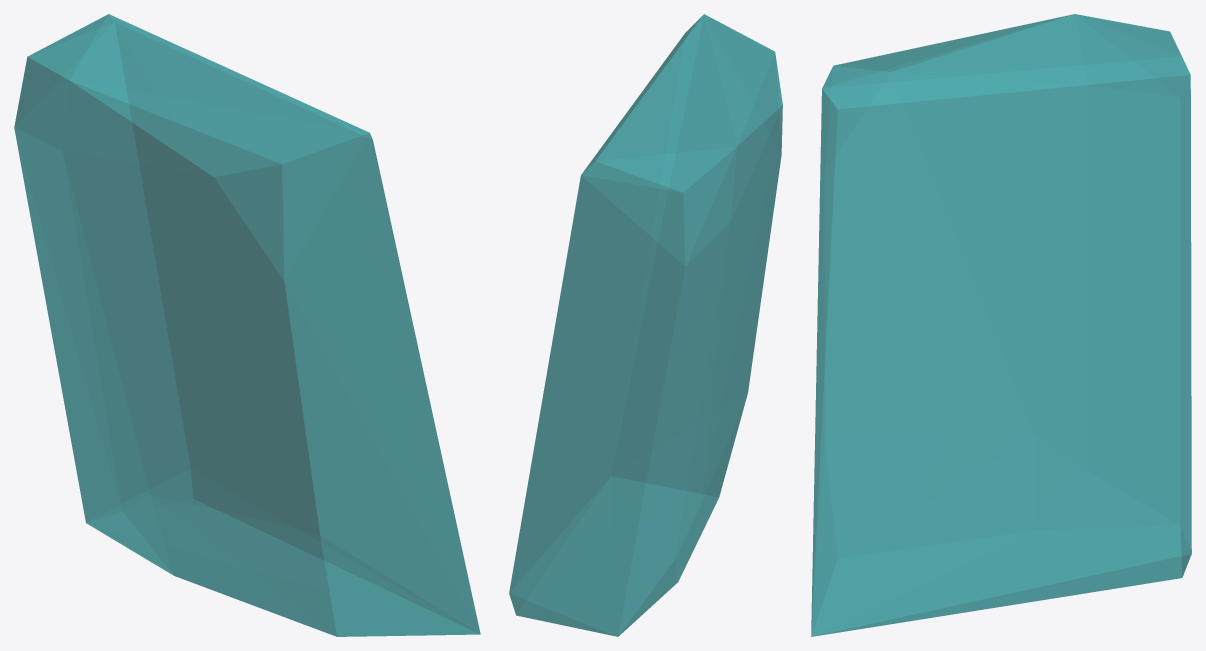
3 views of the same model, side by side, from view 1: azimuth 30°, elevation 25°; view 2: azimuth 150°, elevation 25°; view 3: azimuth 270°, elevation 25° (orthographic). The views are drawn at different scales.
Parts seen in each view (by area): view 1: Shape_IndexedFaceSet.026_Shape_IndexedFaceSet.7512; view 2: Shape_IndexedFaceSet.026_Shape_IndexedFaceSet.7512; view 3: Shape_IndexedFaceSet.026_Shape_IndexedFaceSet.7512.
Part boxes in pixels (bbox=[...]): Shape_IndexedFaceSet.026_Shape_IndexedFaceSet.7512: bbox=[14, 14, 480, 636]; Shape_IndexedFaceSet.026_Shape_IndexedFaceSet.7512: bbox=[509, 14, 782, 636]; Shape_IndexedFaceSet.026_Shape_IndexedFaceSet.7512: bbox=[811, 14, 1191, 636].
Bounding box in the file's own units: 0.1686 × 0.3088 × 0.2133.
